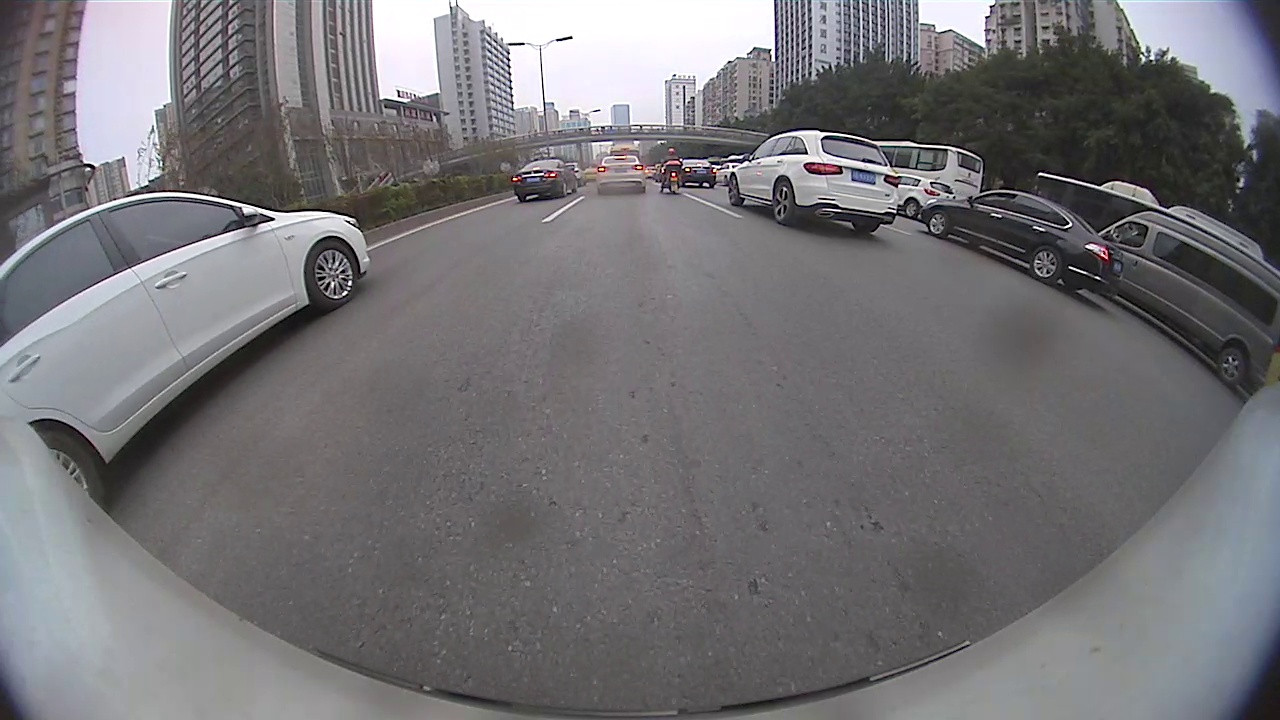bus: (1036, 169, 1261, 259), (875, 142, 987, 208)
car: (2, 193, 374, 514), (1094, 206, 1277, 388), (923, 184, 1118, 287), (726, 130, 896, 232), (512, 156, 577, 200), (894, 176, 949, 221), (594, 156, 648, 193)
front: (304, 238, 360, 308), (1029, 245, 1061, 283), (726, 170, 744, 208), (925, 211, 949, 238)
rear: (33, 428, 106, 514), (1215, 348, 1247, 387), (772, 182, 797, 225), (903, 199, 918, 220)
rider: (660, 145, 686, 193)
